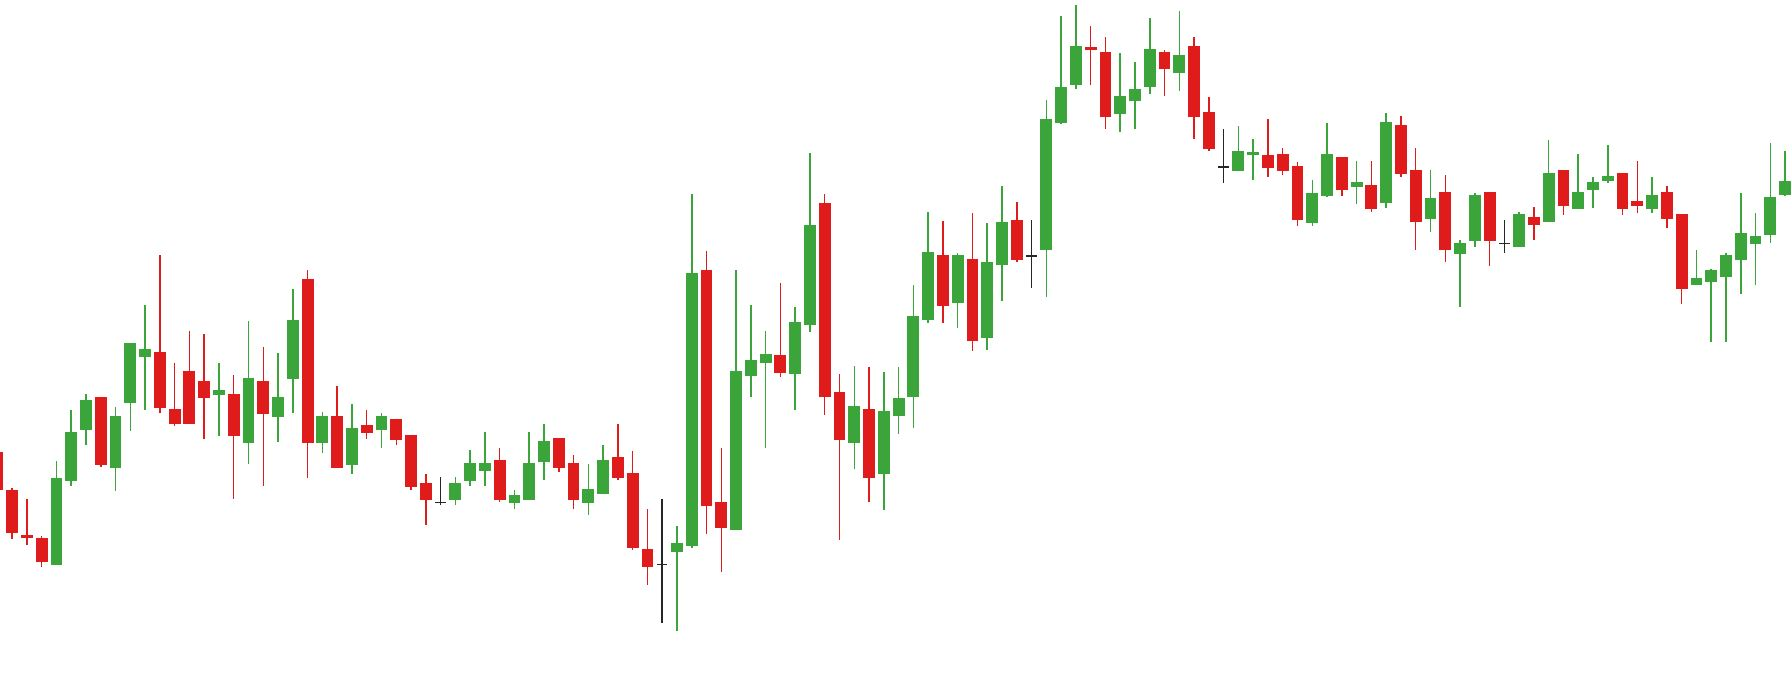buy: (1451, 200, 1718, 353), (757, 313, 862, 545)
sell: (1319, 107, 1406, 200)
